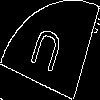U: (25, 25, 66, 83)
